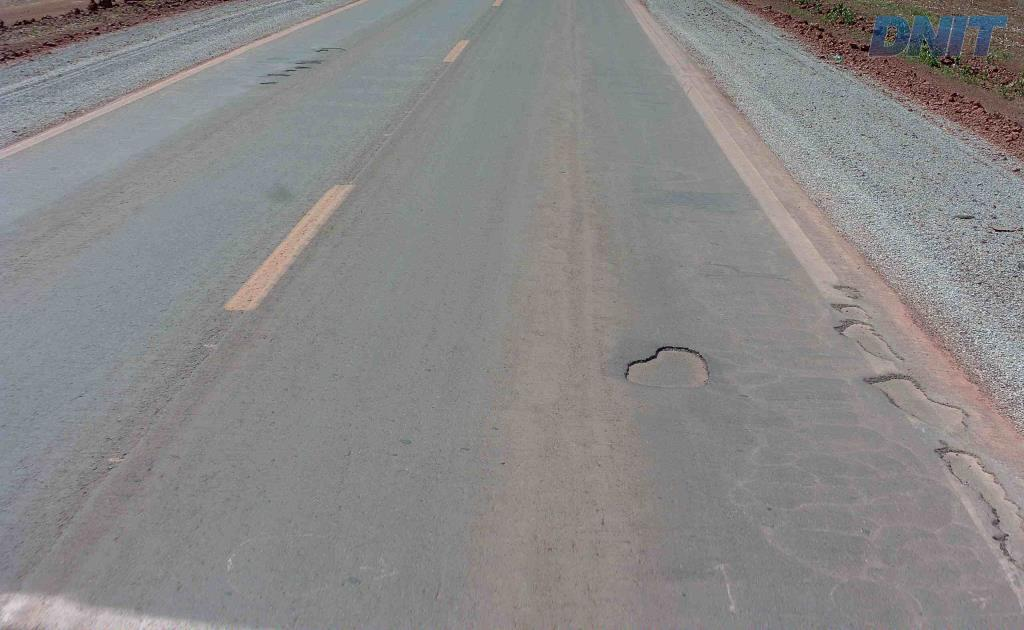pothole: (608, 339, 722, 400)
